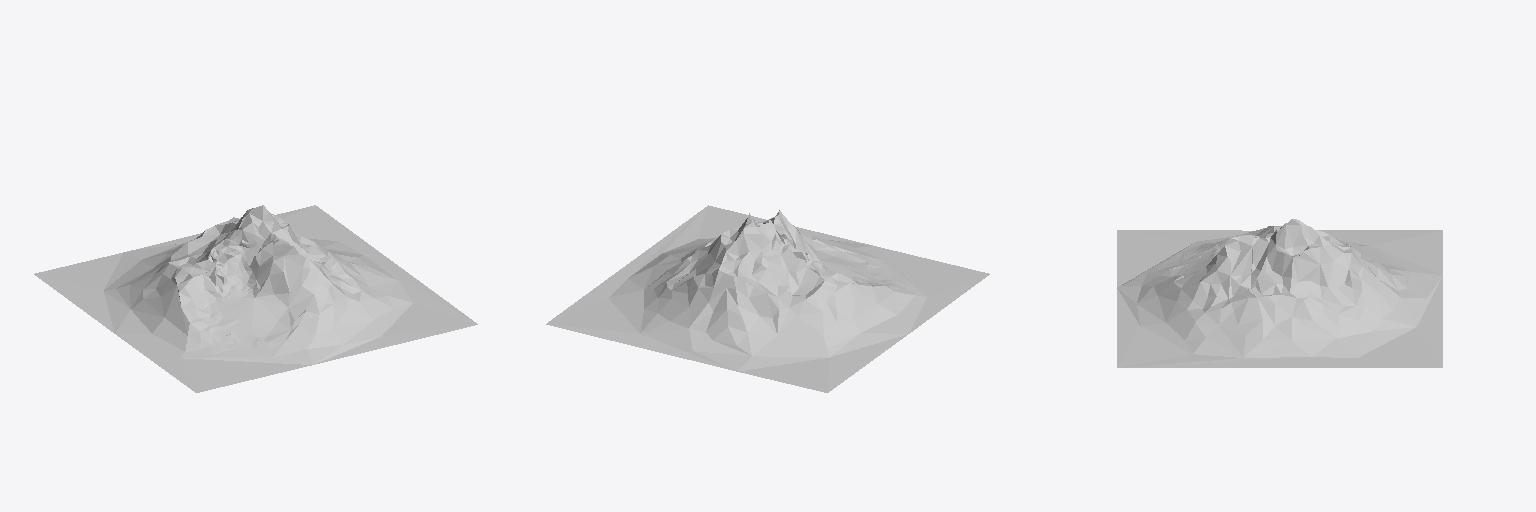
File: moutain.obj
The picture shows the model from 3 angles: view 1: azimuth 30°, elevation 25°; view 2: azimuth 150°, elevation 25°; view 3: azimuth 270°, elevation 25°; orthographic projection.
Parts seen in each view (by area): view 1: Landscape.001; view 2: Landscape.001; view 3: Landscape.001.
Part boxes in pixels (bbox=[...]): Landscape.001: bbox=[34, 205, 477, 392]; Landscape.001: bbox=[546, 205, 989, 392]; Landscape.001: bbox=[1117, 219, 1442, 367].
Bounding box in the file's own units: 6 × 1.77 × 6.